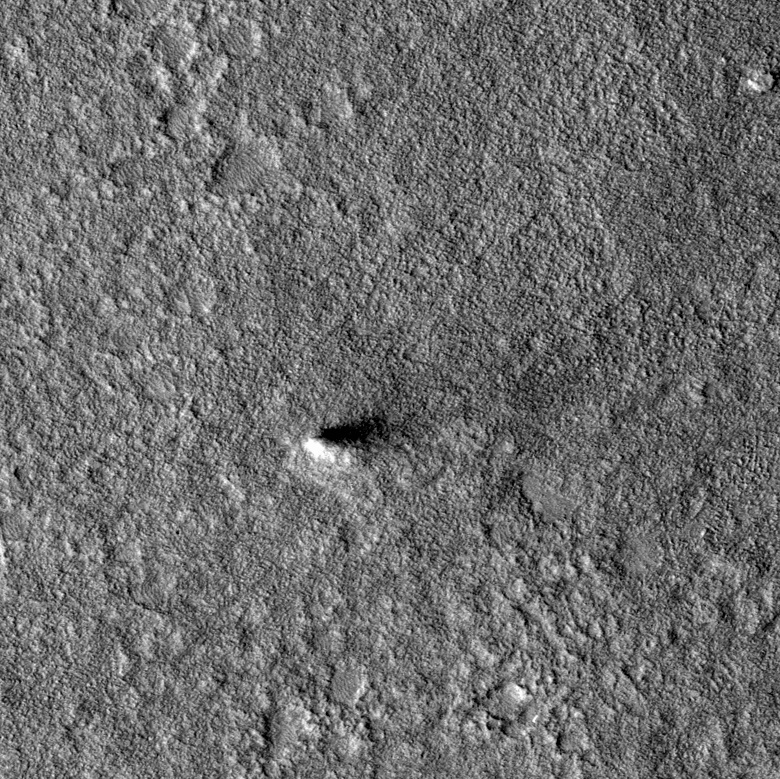dust_devil: (301, 414, 393, 464)
